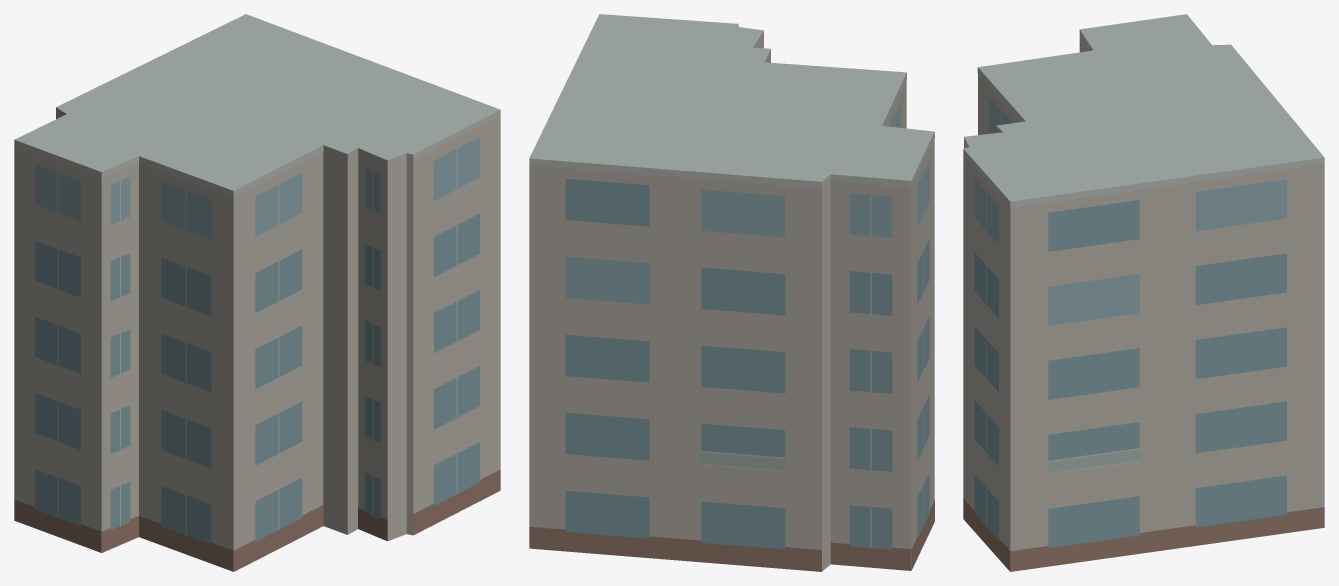
Rendered from survey-upis-32861192.glb.
3 views of the same model, side by side, from view 1: azimuth 30°, elevation 25°; view 2: azimuth 150°, elevation 25°; view 3: azimuth 270°, elevation 25° (orthographic). The views are drawn at different scales.
Parts seen in each view (by area): view 1: survey-upis-32861192.tmp; view 2: survey-upis-32861192.tmp; view 3: survey-upis-32861192.tmp.
Boxes of the visible parts, bbox=[...] form: survey-upis-32861192.tmp: bbox=[14, 14, 500, 571]; survey-upis-32861192.tmp: bbox=[529, 14, 934, 571]; survey-upis-32861192.tmp: bbox=[963, 14, 1324, 571].
Size of the model in its own units: 15.06 by 13.85 by 12.26.
